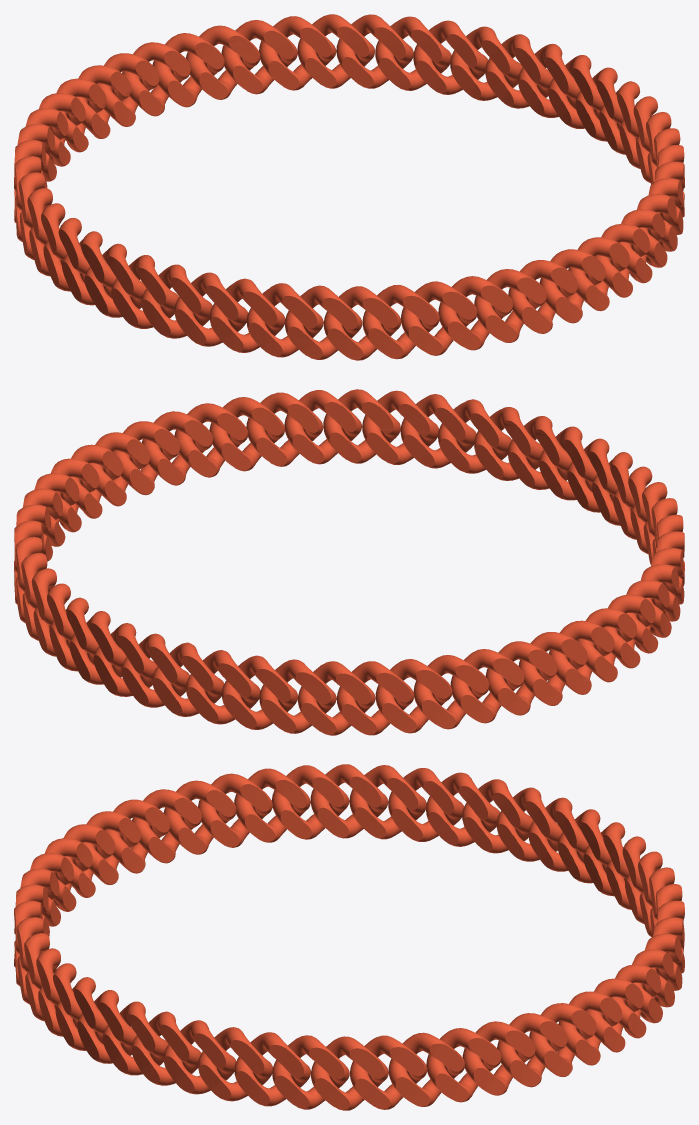
File: elegant_hand_chain_bangle__3d_model.glb
3 views of the same model, one above another, from view 1: azimuth 30°, elevation 25°; view 2: azimuth 150°, elevation 25°; view 3: azimuth 270°, elevation 25° (orthographic).
Parts seen in each view (by area): view 1: Object_2; view 2: Object_2; view 3: Object_2.
Boxes of the visible parts, x1,y1,x2,y2 form: Object_2: (14,14,684,360); Object_2: (14,389,684,735); Object_2: (14,764,684,1110).
Size of the model in its own units: 4.95 by 0.5742 by 4.95.
